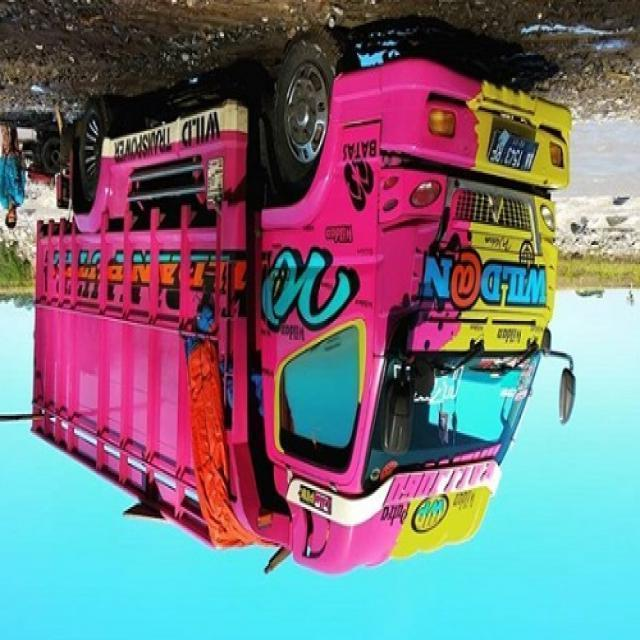truck: (28, 38, 580, 576)
